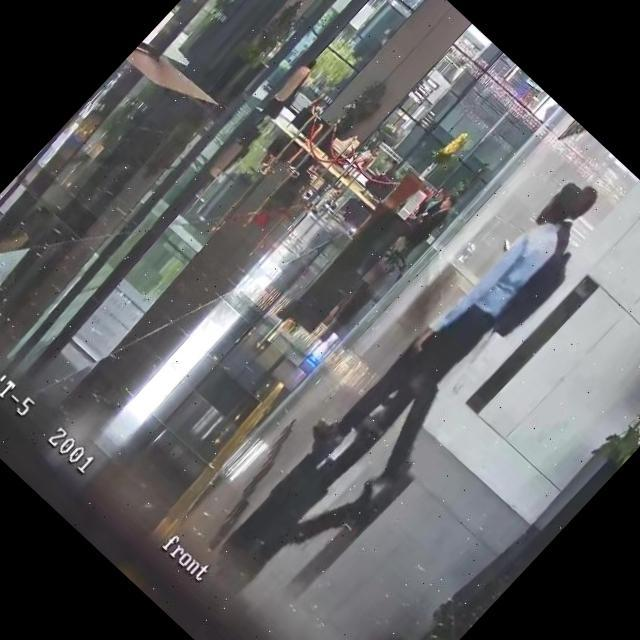person: (302, 165, 630, 507), (354, 180, 608, 449), (248, 56, 324, 135), (288, 95, 340, 148), (409, 191, 459, 244), (358, 154, 404, 202), (342, 142, 382, 184), (418, 185, 452, 221)
